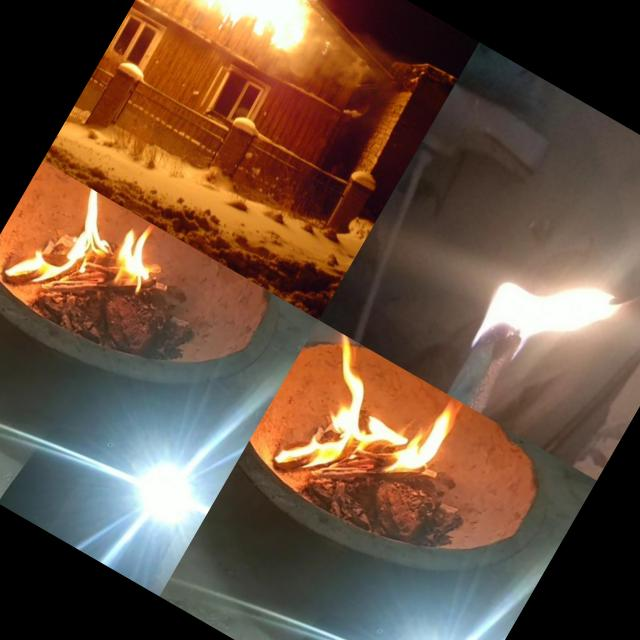fire: (437, 214, 640, 429), (288, 340, 480, 527), (0, 170, 181, 346), (147, 0, 356, 68)
